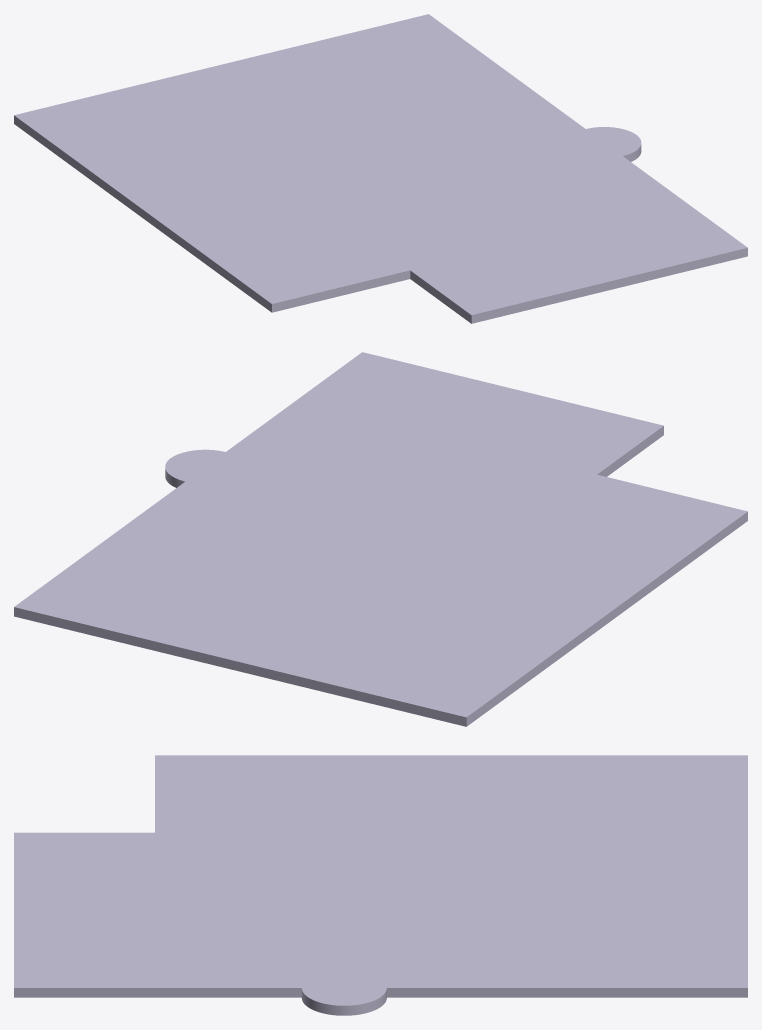
Rendered from ssuelo-01.gltf.
3 views of the same model, one above another, from view 1: azimuth 30°, elevation 25°; view 2: azimuth 150°, elevation 25°; view 3: azimuth 270°, elevation 25° (orthographic). The views are drawn at different scales.
Visible parts, largest first — view 1: Object_8.002; view 2: Object_8.002; view 3: Object_8.002.
Part boxes in pixels (x1,y1,x2,y2): Object_8.002: [14, 14, 747, 323]; Object_8.002: [14, 352, 747, 726]; Object_8.002: [14, 755, 747, 1015].
Size of the model in its own units: 16.16 by 0.3 by 20.
